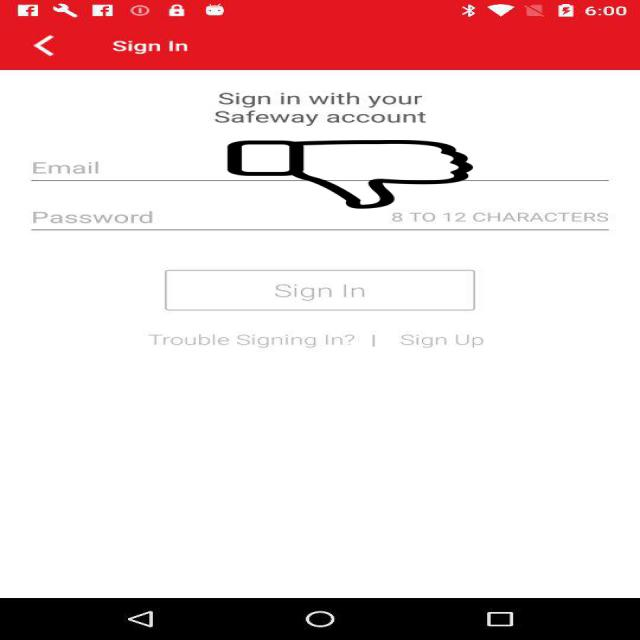obstruction: (224, 140, 476, 209)
